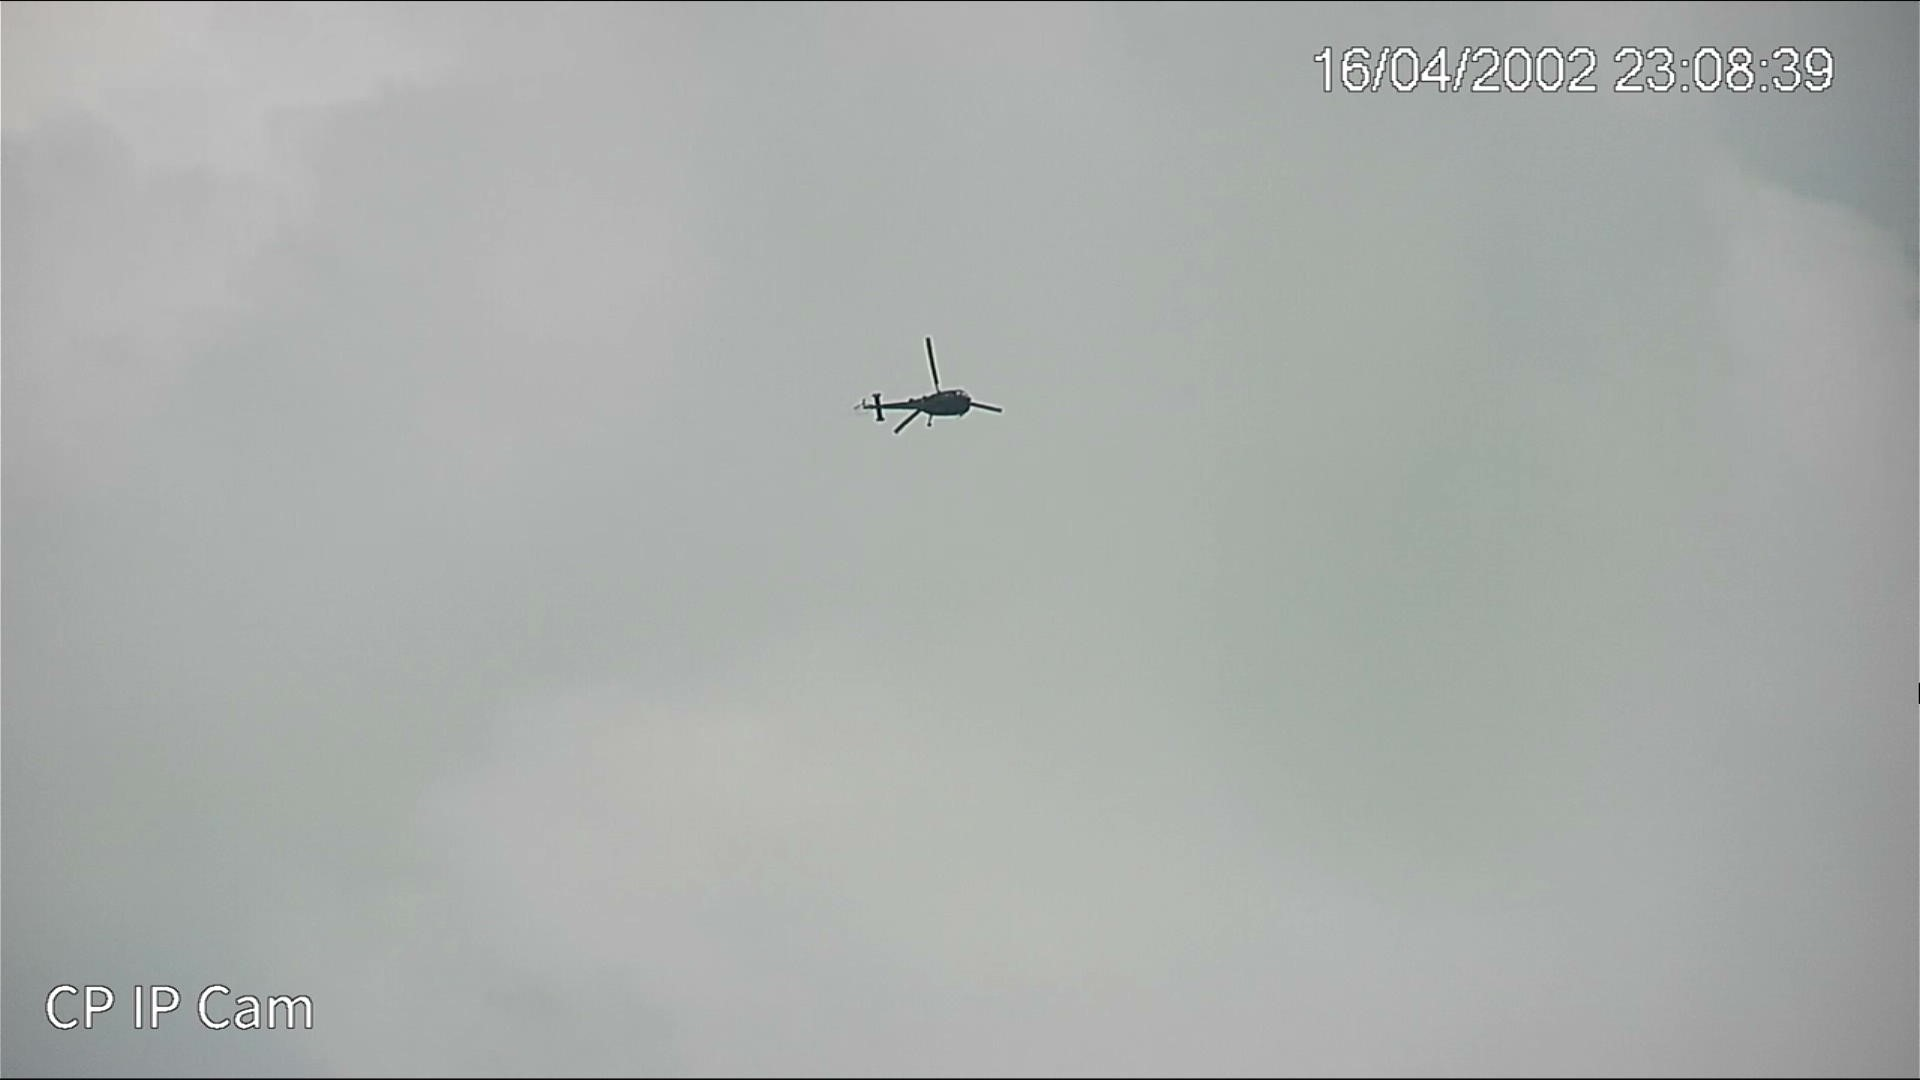SU_30: (856, 382, 989, 431)
